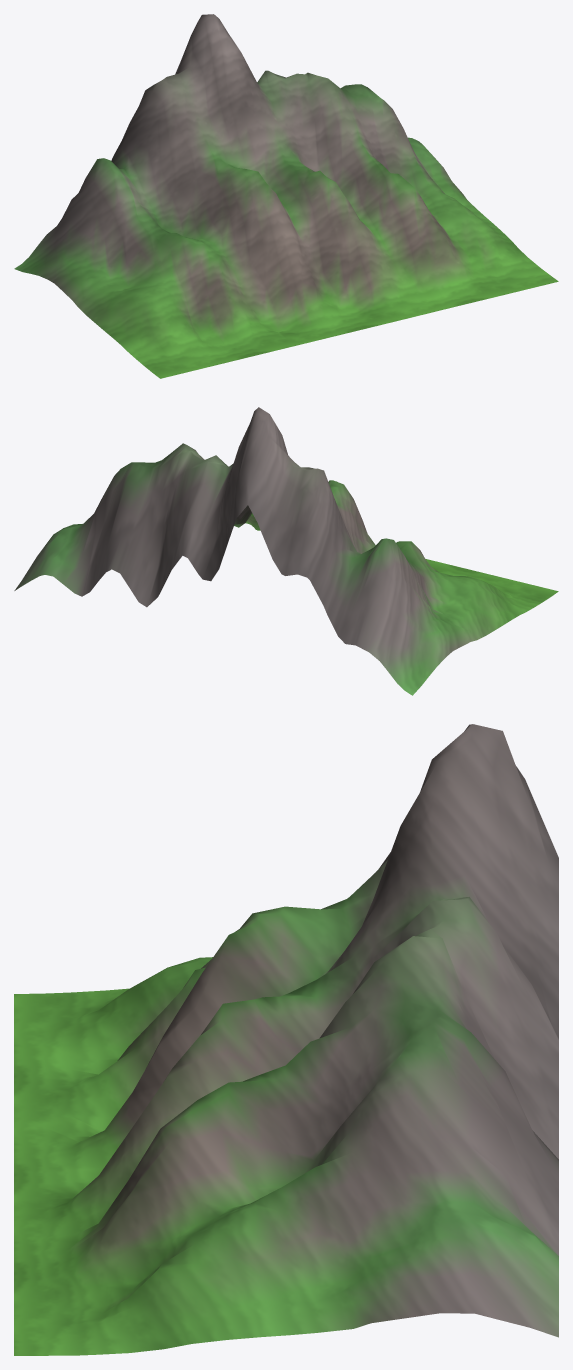
Rendered from ridge_b.glb.
The picture shows the model from 3 angles, top to bottom: view 1: azimuth 30°, elevation 25°; view 2: azimuth 150°, elevation 25°; view 3: azimuth 270°, elevation 25°; orthographic projection. The views are drawn at different scales.
Parts seen in each view (by area): view 1: ridge_b; view 2: ridge_b; view 3: ridge_b.
Part boxes in pixels (x1=…): ridge_b: x1=14, y1=14, x2=558, y2=378; ridge_b: x1=14, y1=407, x2=558, y2=695; ridge_b: x1=14, y1=724, x2=558, y2=1355.
Bounding box in the file's own units: 22 × 12.46 × 14.
1 material, 1 textured.
